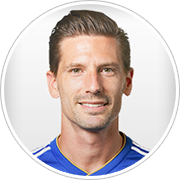face: (44, 43, 135, 122)
